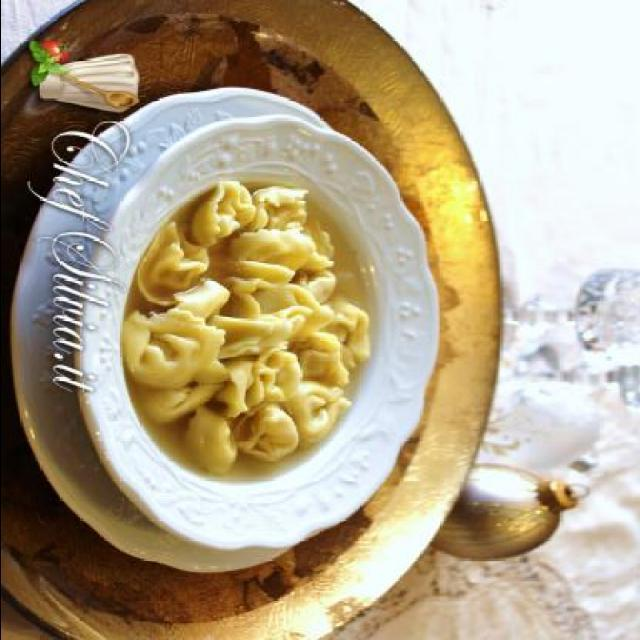Tortellini in broth: (132, 162, 374, 484)
